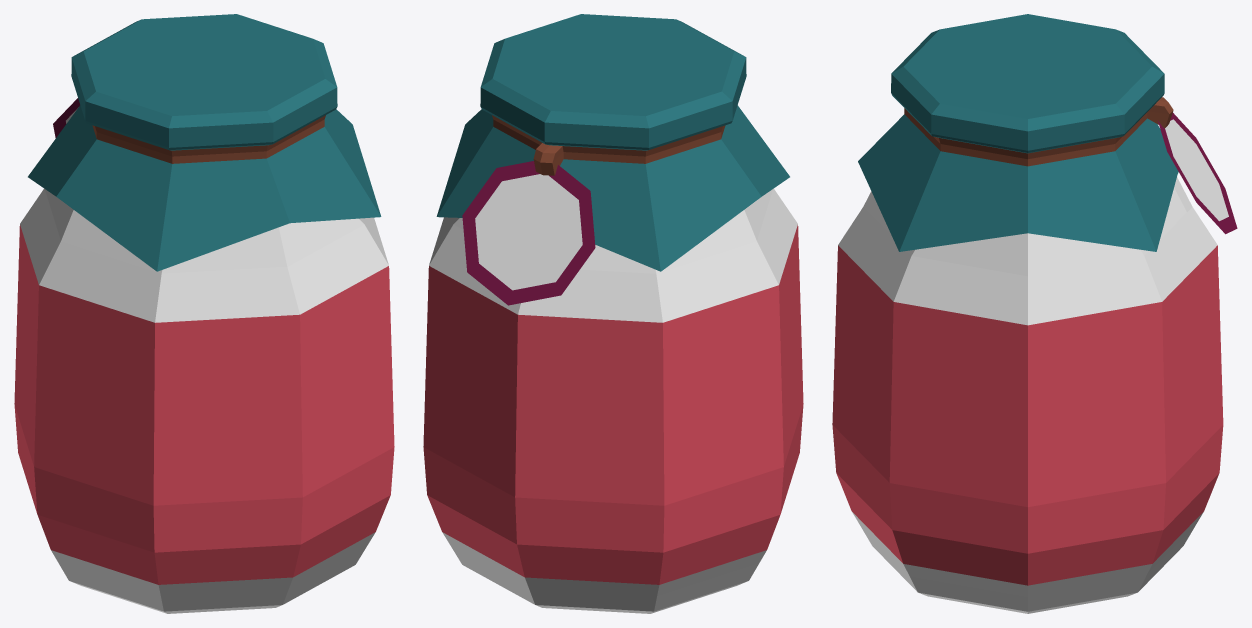
Rendered from Potion.FrootSquish.l.fbx.
The picture shows the model from 3 angles, left to right: view 1: azimuth 30°, elevation 25°; view 2: azimuth 150°, elevation 25°; view 3: azimuth 270°, elevation 25°; orthographic projection.
Visible parts, largest first — view 1: Potion.FrootSquish.l; view 2: Potion.FrootSquish.l; view 3: Potion.FrootSquish.l.
Part boxes in pixels (left/top/right/bottom): Potion.FrootSquish.l: left=14, top=14, right=394, bottom=613; Potion.FrootSquish.l: left=423, top=14, right=803, bottom=613; Potion.FrootSquish.l: left=832, top=14, right=1237, bottom=613.
Bounding box in the file's own units: 52.46 × 72.2 × 54.36.
